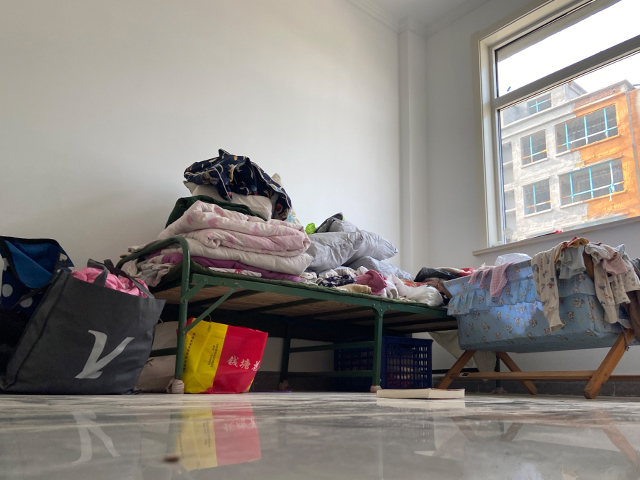bed: (114, 236, 450, 393)
book: (376, 387, 466, 400)
stool: (434, 237, 640, 401)
